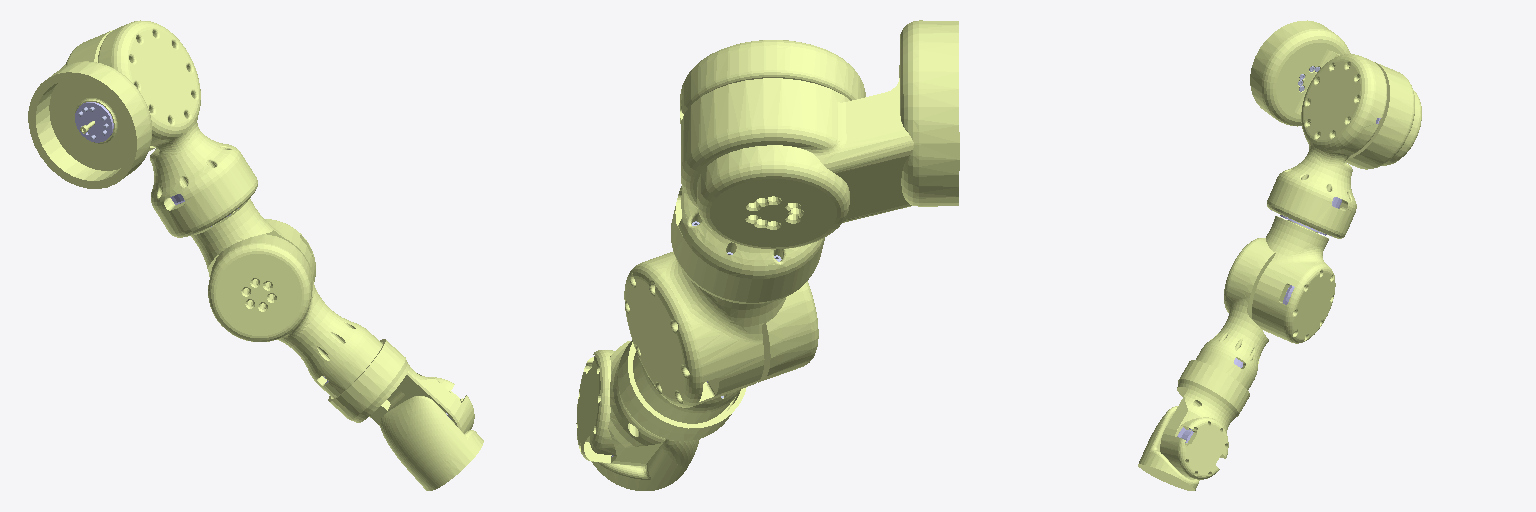
--- Facts derived from the render (not from the file) ---
The picture shows the robot from 3 angles, left to right: view 1: azimuth 30°, elevation 25°; view 2: azimuth 150°, elevation 25°; view 3: azimuth 270°, elevation 25°; orthographic projection.
Robot: urdf brat stang 7 — 34 links, 33 joints (6 revolute, 1 continuous, 26 fixed); root link base_fixture_link; default pose: all joints at 0.
Links seen in each view (by area): view 1: left_shoulder_roll, left_elbow, left_shoulder_pitch, left_hand, left_wrist, left_shoulder_yaw, left_shoulder_pitch_rs04_flange; view 2: left_shoulder_pitch, left_shoulder_yaw, left_shoulder_roll, left_wrist, left_elbow, left_hand; view 3: left_shoulder_roll, left_shoulder_pitch, left_shoulder_yaw, left_wrist, left_elbow, left_hand.
Boxes of the visible links, box(x1,y1,x2,y2) form: left_shoulder_roll: box(98, 20, 257, 237); left_elbow: box(208, 234, 382, 398); left_shoulder_pitch: box(28, 30, 154, 188); left_hand: box(380, 396, 483, 490); left_wrist: box(328, 339, 474, 433); left_shoulder_yaw: box(191, 199, 315, 281); left_shoulder_pitch_rs04_flange: box(75, 102, 113, 142); left_shoulder_pitch: box(681, 20, 959, 249); left_shoulder_yaw: box(624, 252, 785, 407); left_shoulder_roll: box(671, 40, 865, 303); left_wrist: box(576, 340, 746, 466); left_elbow: box(633, 281, 818, 423); left_hand: box(592, 439, 699, 490); left_shoulder_roll: box(1267, 54, 1386, 238); left_shoulder_pitch: box(1250, 20, 1421, 169); left_shoulder_yaw: box(1252, 216, 1335, 343); left_wrist: box(1160, 360, 1249, 479); left_elbow: box(1196, 238, 1275, 389); left_hand: box(1138, 406, 1199, 490).
Size in the robot's own frame: 0.47 by 0.3979 by 0.5496 metres.
Meshes: 34 distinct files referenced, 32 mesh visuals loaded (32 binary STL); not drawn: 2 (reference not matched to a file when rendering).

The robot description file, URDF, robot "urdf brat stang 7":
<?xml version="1.0" encoding="utf-8"?>
<!-- This URDF was automatically created by SolidWorks to URDF Exporter! Originally created by Stephen Brawner ([email redacted]) 
     Commit Version: 1.6.0-4-g7f85cfe  Build Version: 1.6.7995.38578
     For more information, please see http://wiki.ros.org/sw_urdf_exporter -->
<robot
  name="urdf brat stang 7">
  <link
    name="base_fixture_link">
    <inertial>
      <origin
        xyz="-0.30933 -0.17963 -0.83636"
        rpy="0 0 0" />
      <mass
        value="400" />
      <inertia
        ixx="1.5338"
        ixy="-0.024766"
        ixz="-0.16927"
        iyy="1.5621"
        iyz="-0.098299"
        izz="0.18464" />
    </inertial>
    <visual>
      <origin
        xyz="0 0 0"
        rpy="0 0 0" />
      <geometry>
        <mesh
          filename="package://urdf brat stang 7/meshes/base_fixture_link.STL" />
      </geometry>
      <material
        name="">
        <color
          rgba="0.82353 0.82353 1 1" />
      </material>
    </visual>
    <collision>
      <origin
        xyz="0 0 0"
        rpy="0 0 0" />
      <geometry>
        <mesh
          filename="package://urdf brat stang 7/meshes/base_fixture_link.STL" />
      </geometry>
    </collision>
  </link>
  <link
    name="left_shoulder_pitch_rs04_actuator">
    <inertial>
      <origin
        xyz="-0.0212144936357581 -0.0123197061496141 -1.4773737788687E-12"
        rpy="0 0 0" />
      <mass
        value="0.517423577893353" />
      <inertia
        ixx="0.000791281929906339"
        ixy="0.000146596403770864"
        ixz="1.04334286421383E-06"
        iyy="0.000623975041966309"
        iyz="-1.79663299480508E-06"
        izz="0.000544725741611065" />
    </inertial>
    <visual>
      <origin
        xyz="0 0 0"
        rpy="0 0 0" />
      <geometry>
        <mesh
          filename="package://urdf brat stang 7/meshes/left_shoulder_pitch_rs04_actuator.STL" />
      </geometry>
      <material
        name="">
        <color
          rgba="0.823529411764706 0.823529411764706 1 1" />
      </material>
    </visual>
    <collision>
      <origin
        xyz="0 0 0"
        rpy="0 0 0" />
      <geometry>
        <mesh
          filename="package://urdf brat stang 7/meshes/left_shoulder_pitch_rs04_actuator.STL" />
      </geometry>
    </collision>
  </link>
  <joint
    name="left_shoulder_pitch_rs04_actuator_fixture_link"
    type="fixed">
    <origin
      xyz="0 0 0"
      rpy="0 0 0" />
    <parent
      link="base_fixture_link" />
    <child
      link="left_shoulder_pitch_rs04_actuator" />
    <axis
      xyz="0 0 0" />
  </joint>
  <link
    name="left_shoulder_pitch_rs04_flange">
    <inertial>
      <origin
        xyz="-0.00160023400776765 -0.00100669949731991 7.29307138803703E-05"
        rpy="0 0 0" />
      <mass
        value="0.00758352122244494" />
      <inertia
        ixx="2.06768924459384E-06"
        ixy="5.07332578299122E-07"
        ixz="-2.28963593554678E-21"
        iyy="1.48868298903532E-06"
        iyz="-1.7205356741103E-22"
        izz="1.19406420659582E-06" />
    </inertial>
    <visual>
      <origin
        xyz="0 0 0"
        rpy="0 0 0" />
      <geometry>
        <mesh
          filename="package://urdf brat stang 7/meshes/left_shoulder_pitch_rs04_flange.STL" />
      </geometry>
      <material
        name="">
        <color
          rgba="0.823529411764706 0.823529411764706 1 1" />
      </material>
    </visual>
    <collision>
      <origin
        xyz="0 0 0"
        rpy="0 0 0" />
      <geometry>
        <mesh
          filename="package://urdf brat stang 7/meshes/left_shoulder_pitch_rs04_flange.STL" />
      </geometry>
    </collision>
  </link>
  <joint
    name="left_shoulder_pitch_rs04_flange_joint"
    type="revolute">
    <origin
      xyz="0 0 0"
      rpy="0 0 0" />
    <parent
      link="left_shoulder_pitch_rs04_actuator" />
    <child
      link="left_shoulder_pitch_rs04_flange" />
    <axis
      xyz="0.864760392474123 0.502184690734396 0" />
    <limit
      lower="-3.14"
      upper="3.14"
      effort="120"
      velocity="3" />
    <safety_controller
      soft_upper_limit="3.14"
      soft_lower_limit="-3.14"
      k_velocity="0" />
  </joint>
  <link
    name="m5x22_screws_left_shoulder_pitch">
    <inertial>
      <origin
        xyz="0.00721932653725377 0.000299723766531201 0.00365316139893568"
        rpy="0 0 0" />
      <mass
        value="0.00474644340626585" />
      <inertia
        ixx="1.03394680133485E-07"
        ixy="-1.32206926832093E-07"
        ixz="-2.76565465658249E-13"
        iyy="2.54278723556555E-07"
        iyz="2.77265718511042E-13"
        izz="3.31054378599859E-07" />
    </inertial>
    <visual>
      <origin
        xyz="0 0 0"
        rpy="0 0 0" />
      <geometry>
        <mesh
          filename="package://urdf brat stang 7/meshes/m5x22_screws_left_shoulder_pitch.STL" />
      </geometry>
      <material
        name="">
        <color
          rgba="0.792156862745098 0.819607843137255 0.933333333333333 1" />
      </material>
    </visual>
    <collision>
      <origin
        xyz="0 0 0"
        rpy="0 0 0" />
      <geometry>
        <mesh
          filename="package://urdf brat stang 7/meshes/m5x22_screws_left_shoulder_pitch.STL" />
      </geometry>
    </collision>
  </link>
  <joint
    name="m5x22_screws_left_shoulder_pitch_fixture_joint"
    type="fixed">
    <origin
      xyz="0 0 0"
      rpy="0 0 0" />
    <parent
      link="left_shoulder_pitch_rs04_flange" />
    <child
      link="m5x22_screws_left_shoulder_pitch" />
    <axis
      xyz="0 0 0" />
  </joint>
  <link
    name="left_shoulder_pitch">
    <inertial>
      <origin
        xyz="0.0422379184792105 0.0631675726295917 -0.021162469711781"
        rpy="0 0 0" />
      <mass
        value="1.19772099744743" />
      <inertia
        ixx="0.00533841544478267"
        ixy="-0.00181737265176679"
        ixz="0.000735956231723286"
        iyy="0.00421467724838482"
        iyz="0.000482895979159517"
        izz="0.00612223849669078" />
    </inertial>
    <visual>
      <origin
        xyz="0 0 0"
        rpy="0 0 0" />
      <geometry>
        <mesh
          filename="package://urdf brat stang 7/meshes/left_shoulder_pitch.STL" />
      </geometry>
      <material
        name="">
        <color
          rgba="0.952941176470588 0.996078431372549 0.694117647058824 1" />
      </material>
    </visual>
    <collision>
      <origin
        xyz="0 0 0"
        rpy="0 0 0" />
      <geometry>
        <mesh
          filename="package://urdf brat stang 7/meshes/left_shoulder_pitch.STL" />
      </geometry>
    </collision>
  </link>
  <joint
    name="left_shoulder_pitch_fixture_joint"
    type="fixed">
    <origin
      xyz="0 0 0"
      rpy="0 0 0" />
    <parent
      link="m5x22_screws_left_shoulder_pitch" />
    <child
      link="left_shoulder_pitch" />
    <axis
      xyz="0 0 0" />
  </joint>
  <link
    name="m5x22_screws_left_shoulder_roll">
    <inertial>
      <origin
        xyz="5.12752764351143E-05 -0.0128935045048073 5.12072378634487E-05"
        rpy="0 0 0" />
      <mass
        value="0.00610257053905764" />
      <inertia
        ixx="4.25641380807002E-07"
        ixy="1.38655679975827E-13"
        ixz="-4.65295401727222E-13"
        iyy="3.42246799589694E-08"
        iyz="-2.63052839856934E-13"
        izz="4.25641102603519E-07" />
    </inertial>
    <visual>
      <origin
        xyz="0 0 0"
        rpy="0 0 0" />
      <geometry>
        <mesh
          filename="package://urdf brat stang 7/meshes/m5x22_screws_left_shoulder_roll.STL" />
      </geometry>
      <material
        name="">
        <color
          rgba="0.792156862745098 0.819607843137255 0.933333333333333 1" />
      </material>
    </visual>
    <collision>
      <origin
        xyz="0 0 0"
        rpy="0 0 0" />
      <geometry>
        <mesh
          filename="package://urdf brat stang 7/meshes/m5x22_screws_left_shoulder_roll.STL" />
      </geometry>
    </collision>
  </link>
  <joint
    name="m5x22_screws_left_shoulder_roll_fixture_joint"
    type="fixed">
    <origin
      xyz="0.0803272260170873 0.0942116090989131 -0.0260749219194687"
      rpy="0.564448515429829 0 -2.61546937197944" />
    <parent
      link="left_shoulder_pitch" />
    <child
      link="m5x22_screws_left_shoulder_roll" />
    <axis
      xyz="0 0 0" />
  </joint>
  <link
    name="left_shoulder_roll_rs04_flange">
    <inertial>
      <origin
        xyz="-4.16333634234434E-14 -0.00211063193642413 6.38313846224037E-11"
        rpy="0 0 0" />
      <mass
        value="0.00758352122244508" />
      <inertia
        ixx="1.19406420659584E-06"
        ixy="-1.12430388858208E-20"
        ixz="1.48230765769503E-21"
        iyy="2.36230802703339E-06"
        iyz="-1.48200182586151E-15"
        izz="1.19406420659585E-06" />
    </inertial>
    <visual>
      <origin
        xyz="0 0 0"
        rpy="0 0 0" />
      <geometry>
        <mesh
          filename="package://urdf brat stang 7/meshes/left_shoulder_roll_rs04_flange.STL" />
      </geometry>
      <material
        name="">
        <color
          rgba="0.823529411764706 0.823529411764706 1 1" />
      </material>
    </visual>
    <collision>
      <origin
        xyz="0 0 0"
        rpy="0 0 0" />
      <geometry>
        <mesh
          filename="package://urdf brat stang 7/meshes/left_shoulder_roll_rs04_flange.STL" />
      </geometry>
    </collision>
  </link>
  <joint
    name="left_shoulder_roll_rs04_flange_joint"
    type="fixed">
    <origin
      xyz="0 0 0"
      rpy="0 0 0" />
    <parent
      link="m5x22_screws_left_shoulder_roll" />
    <child
      link="left_shoulder_roll_rs04_flange" />
    <axis
      xyz="0 0 0" />
  </joint>
  <link
    name="left_shoulder_roll_rs04_actuator">
    <inertial>
      <origin
        xyz="7.54312758008968E-05 0.0205322216645349 2.70558418999922E-05"
        rpy="0 0 0" />
      <mass
        value="0.517423577893356" />
      <inertia
        ixx="0.000542006962748033"
        ixy="-4.59109475697134E-15"
        ixz="-3.59408880621049E-06"
        iyy="0.000876413569064535"
        iyz="-4.24937943990442E-13"
        izz="0.000541562181671229" />
    </inertial>
    <visual>
      <origin
        xyz="0 0 0"
        rpy="0 0 0" />
      <geometry>
        <mesh
          filename="package://urdf brat stang 7/meshes/left_shoulder_roll_rs04_actuator.STL" />
      </geometry>
      <material
        name="">
        <color
          rgba="0.823529411764706 0.823529411764706 1 1" />
      </material>
    </visual>
    <collision>
      <origin
        xyz="0 0 0"
        rpy="0 0 0" />
      <geometry>
        <mesh
          filename="package://urdf brat stang 7/meshes/left_shoulder_roll_rs04_actuator.STL" />
      </geometry>
    </collision>
  </link>
  <joint
    name="left_shoulder_roll_rs04_actuator_fixture_link"
    type="revolute">
    <origin
      xyz="0 0 0"
      rpy="0 0 0" />
    <parent
      link="left_shoulder_roll_rs04_flange" />
    <child
      link="left_shoulder_roll_rs04_actuator" />
    <axis
      xyz="0 -1 0" />
    <limit
      lower="-3.5"
      upper="0.6"
      effort="120"
      velocity="3" />
    <safety_controller
      soft_upper_limit="3.14"
      soft_lower_limit="-3.14"
      k_velocity="0" />
  </joint>
  <link
    name="m4x25_left_shoulder_screws_roll">
    <inertial>
      <origin
        xyz="5.45041063610974E-05 0.0496289837028789 5.40653513856348E-05"
        rpy="0 0 0" />
      <mass
        value="0.00451430348886334" />
      <inertia
        ixx="3.68173387240364E-07"
        ixy="-6.77491733962292E-15"
        ixz="6.50698948799655E-17"
        iyy="1.54230097659285E-08"
        iyz="-3.94880986289279E-17"
        izz="3.68173386339827E-07" />
    </inertial>
    <visual>
      <origin
        xyz="0 0 0"
        rpy="0 0 0" />
      <geometry>
        <mesh
          filename="package://urdf brat stang 7/meshes/m4x25_left_shoulder_screws_roll.STL" />
      </geometry>
      <material
        name="">
        <color
          rgba="0.792156862745098 0.819607843137255 0.933333333333333 1" />
      </material>
    </visual>
    <collision>
      <origin
        xyz="0 0 0"
        rpy="0 0 0" />
      <geometry>
        <mesh
          filename="package://urdf brat stang 7/meshes/m4x25_left_shoulder_screws_roll.STL" />
      </geometry>
    </collision>
  </link>
  <joint
    name="m4x25_left_shoulder_screws_roll_fixture_joint"
    type="fixed">
    <origin
      xyz="0 0 0"
      rpy="0 0 0" />
    <parent
      link="left_shoulder_roll_rs04_actuator" />
    <child
      link="m4x25_left_shoulder_screws_roll" />
    <axis
      xyz="0 0 0" />
  </joint>
  <link
    name="left_shoulder_roll">
    <inertial>
      <origin
        xyz="-0.00752228686656664 0.0497547008472168 -0.055681167948436"
        rpy="0 0 0" />
      <mass
        value="0.997620688400226" />
      <inertia
        ixx="0.00534467265132067"
        ixy="-8.46143392882667E-05"
        ixz="-0.000430210471278774"
        iyy="0.00591903784346482"
        iyz="-0.000640722357597432"
        izz="0.00178281861079861" />
    </inertial>
    <visual>
      <origin
        xyz="0 0 0"
        rpy="0 0 0" />
      <geometry>
        <mesh
          filename="package://urdf brat stang 7/meshes/left_shoulder_roll.STL" />
      </geometry>
      <material
        name="">
        <color
          rgba="0.952941176470588 0.996078431372549 0.694117647058824 1" />
      </material>
    </visual>
    <collision>
      <origin
        xyz="0 0 0"
        rpy="0 0 0" />
      <geometry>
        <mesh
          filename="package://urdf brat stang 7/meshes/left_shoulder_roll.STL" />
      </geometry>
    </collision>
  </link>
  <joint
    name="left_shoulde_roll_fixture_joint"
    type="fixed">
    <origin
      xyz="0 0 0"
      rpy="0 0 0" />
    <parent
      link="m4x25_left_shoulder_screws_roll" />
    <child
      link="left_shoulder_roll" />
    <axis
      xyz="0 0 0" />
  </joint>
  <link
    name="m4x16_left_shoulder_yaw_screws">
    <inertial>
      <origin
        xyz="2.94195667827069E-10 6.28038065997316E-10 0.0451525729602269"
        rpy="0 0 0" />
      <mass
        value="0.00270184474693412" />
      <inertia
        ixx="1.0355785748527E-07"
        ixy="1.55850036199955E-16"
        ixz="-1.87732105419708E-15"
        iyy="1.03557857737459E-07"
        iyz="-3.9263557482072E-15"
        izz="1.05098007898703E-08" />
    </inertial>
    <visual>
      <origin
        xyz="0 0 0"
        rpy="0 0 0" />
      <geometry>
        <mesh
          filename="package://urdf brat stang 7/meshes/m4x16_left_shoulder_yaw_screws.STL" />
      </geometry>
      <material
        name="">
        <color
          rgba="0.792156862745098 0.819607843137255 0.933333333333333 1" />
      </material>
    </visual>
    <collision>
      <origin
        xyz="0 0 0"
        rpy="0 0 0" />
      <geometry>
        <mesh
          filename="package://urdf brat stang 7/meshes/m4x16_left_shoulder_yaw_screws.STL" />
      </geometry>
    </collision>
  </link>
  <joint
    name="m4x16_left_shoulder_yaw_screws_fixture_joint"
    type="fixed">
    <origin
      xyz="-0.0219716026665047 0.037700000000231 -0.173578614834026"
      rpy="0.0571232457871902 0.112571265320765 0.47087557604578" />
    <parent
      link="left_shoulder_roll" />
    <child
      link="m4x16_left_shoulder_yaw_screws" />
    <axis
      xyz="0 0 0" />
  </joint>
  <link
    name="left_shoulder_yaw_rs03_actuator">
    <inertial>
      <origin
        xyz="-0.000137350498326194 -0.000269996793656357 0.025084165158858"
        rpy="0 0 0" />
      <mass
        value="0.356550969588107" />
      <inertia
        ixx="0.000274320425081703"
        ixy="-2.07349930512738E-06"
        ixz="-2.5625369963248E-07"
        iyy="0.000271291938182678"
        iyz="-5.1492485379041E-07"
        izz="0.000381662133736491" />
    </inertial>
    <visual>
      <origin
        xyz="0 0 0"
        rpy="0 0 0" />
      <geometry>
        <mesh
          filename="package://urdf brat stang 7/meshes/left_shoulder_yaw_rs03_actuator.STL" />
      </geometry>
      <material
        name="">
        <color
          rgba="0.823529411764706 0.823529411764706 1 1" />
      </material>
    </visual>
    <collision>
      <origin
        xyz="0 0 0"
        rpy="0 0 0" />
      <geometry>
        <mesh
          filename="package://urdf brat stang 7/meshes/left_shoulder_yaw_rs03_actuator.STL" />
      </geometry>
    </collision>
  </link>
  <joint
    name="left_shoulder_yaw_rs03_actuator_fixture_link"
    type="fixed">
    <origin
      xyz="0 0 0"
      rpy="0 0 0" />
    <parent
      link="m4x16_left_shoulder_yaw_screws" />
    <child
      link="left_shoulder_yaw_rs03_actuator" />
    <axis
      xyz="0 0 0" />
  </joint>
  <link
    name="left_shoulder_yaw_rs03_flange">
    <inertial>
      <origin
        xyz="-1.01978425703919E-10 -1.98439042975451E-10 -0.00125625968589538"
        rpy="0 0 0" />
      <mass
        value="0.00407555097398888" />
      <inertia
        ixx="5.67676746163448E-07"
        ixy="-2.84550130718242E-22"
        ixz="3.78701346742632E-16"
        iyy="5.6767674616345E-07"
        iyz="7.48770296169664E-16"
        izz="1.13114082374848E-06" />
    </inertial>
    <visual>
      <origin
        xyz="0 0 0"
        rpy="0 0 0" />
      <geometry>
        <mesh
          filename="package://urdf brat stang 7/meshes/left_shoulder_yaw_rs03_flange.STL" />
      </geometry>
      <material
        name="">
        <color
          rgba="0.823529411764706 0.823529411764706 1 1" />
      </material>
    </visual>
    <collision>
      <origin
        xyz="0 0 0"
        rpy="0 0 0" />
      <geometry>
        <mesh
          filename="package://urdf brat stang 7/meshes/left_shoulder_yaw_rs03_flange.STL" />
      </geometry>
    </collision>
  </link>
  <joint
    name="left_shoulder_yaw_rs03_flange_joint"
    type="revolute">
    <origin
      xyz="0 0 0"
      rpy="0 0 0" />
    <parent
      link="left_shoulder_yaw_rs03_actuator" />
    <child
      link="left_shoulder_yaw_rs03_flange" />
    <axis
      xyz="0 0 1" />
    <limit
      lower="-3.14"
      upper="3.14"
      effort="60"
      velocity="1.6" />
    <safety_controller
      soft_upper_limit="3.14"
      soft_lower_limit="-3.14"
      k_velocity="0" />
  </joint>
  <link
    name="left_shoulder_yaw_shaft">
    <inertial>
      <origin
        xyz="-1.12223230708253E-10 -2.13622897149435E-10 -0.0119851125677803"
        rpy="0 0 0" />
      <mass
        value="0.000903649674373974" />
      <inertia
        ixx="4.41715688076217E-08"
        ixy="-3.92910790962688E-24"
        ixz="-2.84740481585426E-17"
        iyy="4.41715688076217E-08"
        iyz="-5.6299203047211E-17"
        izz="1.80539813295945E-09" />
    </inertial>
    <visual>
      <origin
        xyz="0 0 0"
        rpy="0 0 0" />
      <geometry>
        <mesh
          filename="package://urdf brat stang 7/meshes/left_shoulder_yaw_shaft.STL" />
      </geometry>
      <material
        name="">
        <color
          rgba="0.823529411764706 0.823529411764706 1 1" />
      </material>
    </visual>
    <collision>
      <origin
        xyz="0 0 0"
        rpy="0 0 0" />
      <geometry>
        <mesh
          filename="package://urdf brat stang 7/meshes/left_shoulder_yaw_shaft.STL" />
      </geometry>
    </collision>
  </link>
  <joint
    name="left_shoulder_yaw_shaft_fixture_joint"
    type="continuous">
    <origin
      xyz="0 0 0"
      rpy="0 0 0" />
    <parent
      link="left_shoulder_yaw_rs03_flange" />
    <child
      link="left_shoulder_yaw_shaft" />
    <axis
      xyz="0 0 1" />
    <limit
      lower="0"
      upper="0"
      effort="0"
      velocity="0" />
  </joint>
  <link
    name="left_shoulder_yaw_flange">
    <inertial>
      <origin
        xyz="-1.06492481499743E-10 -2.03767225315232E-10 -0.00898037826805287"
        rpy="0 0 0" />
      <mass
        value="0.0353531461099521" />
      <inertia
        ixx="9.85459914704043E-06"
        ixy="-7.54070449341709E-08"
        ixz="6.41250564941296E-15"
        iyy="9.59337705819639E-06"
        iyz="1.16833579520226E-14"
        izz="1.87117812635895E-05" />
    </inertial>
    <visual>
      <origin
        xyz="0 0 0"
        rpy="0 0 0" />
      <geometry>
        <mesh
          filename="package://urdf brat stang 7/meshes/left_shoulder_yaw_flange.STL" />
      </geometry>
      <material
        name="">
        <color
          rgba="0.952941176470588 0.996078431372549 0.694117647058824 1" />
      </material>
    </visual>
    <collision>
      <origin
        xyz="0 0 0"
        rpy="0 0 0" />
      <geometry>
        <mesh
          filename="package://urdf brat stang 7/meshes/left_shoulder_yaw_flange.STL" />
      </geometry>
    </collision>
  </link>
  <joint
    name="left_shoulder_yaw_flange_fixture_joint"
    type="fixed">
    <origin
      xyz="0 0 0"
      rpy="0 0 0" />
    <parent
      link="left_shoulder_yaw_shaft" />
    <child
      link="left_shoulder_yaw_flange" />
    <axis
      xyz="0 0 0" />
  </joint>
  <link
    name="1220_m4x16_left_shoulder_yaw_screws">
    <inertial>
      <origin
        xyz="-1.91902826962576E-10 1.89071425182874E-10 -0.0114719356178909"
        rpy="0 0 0" />
      <mass
        value="0.00141036418698186" />
      <inertia
        ixx="3.71610598568626E-08"
        ixy="-3.45234168406663E-21"
        ixz="-2.18969719919941E-17"
        iyy="3.71610598568608E-08"
        iyz="-4.32794460181838E-17"
        izz="4.58636225471012E-09" />
    </inertial>
    <visual>
      <origin
        xyz="0 0 0"
        rpy="0 0 0" />
      <geometry>
        <mesh
          filename="package://urdf brat stang 7/meshes/1220_m4x16_left_shoulder_yaw_screws.STL" />
      </geometry>
      <material
        name="">
        <color
          rgba="0.792156862745098 0.819607843137255 0.933333333333333 1" />
      </material>
    </visual>
    <collision>
      <origin
        xyz="0 0 0"
        rpy="0 0 0" />
      <geometry>
        <mesh
          filename="package://urdf brat stang 7/meshes/1220_m4x16_left_shoulder_yaw_screws.STL" />
      </geometry>
    </collision>
  </link>
  <joint
    name="1220_m4x16_left_shoulder_yaw_screws_fixture_joint"
    type="fixed">
    <origin
      xyz="0 0 0"
      rpy="0 0 0" />
    <parent
      link="left_shoulder_yaw_flange" />
    <child
      link="1220_m4x16_left_shoulder_yaw_screws" />
    <axis
      xyz="0 0 0" />
  </joint>
  <link
    name="m4x25_left_shoulder_yaw_screws">
    <inertial>
      <origin
        xyz="-6.22595752730604E-10 -1.28815313971131E-09 -0.0144289836693576"
        rpy="0 0 0" />
      <mass
        value="0.00270858202481973" />
      <inertia
        ixx="2.20903769276245E-07"
        ixy="4.52767736097723E-13"
        ixz="-1.92256851928136E-15"
        iyy="2.20904293495989E-07"
        iyz="-4.01263024272767E-15"
        izz="9.25380471510248E-09" />
    </inertial>
    <visual>
      <origin
        xyz="0 0 0"
        rpy="0 0 0" />
      <geometry>
        <mesh
          filename="package://urdf brat stang 7/meshes/m4x25_left_shoulder_yaw_screws.STL" />
      </geometry>
      <material
        name="">
        <color
          rgba="0.792156862745098 0.819607843137255 0.933333333333333 1" />
      </material>
    </visual>
    <collision>
      <origin
        xyz="0 0 0"
        rpy="0 0 0" />
      <geometry>
        <mesh
          filename="package://urdf brat stang 7/meshes/m4x25_left_shoulder_yaw_screws.STL" />
      </geometry>
    </collision>
  </link>
  <joint
    name="m4x25_left_shoulder_yaw_screws_fixture_joint"
    type="fixed">
    <origin
      xyz="0 0 0"
      rpy="0 0 0" />
    <parent
      link="1220_m4x16_left_shoulder_yaw_screws" />
    <child
      link="m4x25_left_shoulder_yaw_screws" />
    <axis
      xyz="0 0 0" />
  </joint>
  <link
    name="left_shoulder_yaw">
    <inertial>
      <origin
        xyz="-0.02760855105879 1.01214308401154E-06 -0.0766319307621743"
        rpy="0 0 0" />
      <mass
        value="0.488068654983253" />
      <inertia
        ixx="0.00146908224189927"
        ixy="2.07765822094386E-07"
        ixz="-0.000271215897289947"
        iyy="0.00131630379047291"
        iyz="6.9108854864171E-08"
        izz="0.000811624952993794" />
    </inertial>
    <visual>
      <origin
        xyz="0 0 0"
        rpy="0 0 0" />
      <geometry>
        <mesh
          filename="package://urdf brat stang 7/meshes/left_shoulder_yaw.STL" />
      </geometry>
      <material
        name="">
        <color
          rgba="0.952941176470588 0.996078431372549 0.694117647058824 1" />
      </material>
    </visual>
    <collision>
      <origin
        xyz="0 0 0"
        rpy="0 0 0" />
      <geometry>
        <mesh
          filename="package://urdf brat stang 7/meshes/left_shoulder_yaw.STL" />
      </geometry>
    </collision>
  </link>
  <joint
    name="left_shoulder_yaw_fixture_joint"
    type="fixed">
    <origin
      xyz="0 0 0"
      rpy="0 0 0" />
    <parent
      link="m4x25_left_shoulder_yaw_screws" />
    <child
      link="left_shoulder_yaw" />
    <axis
      xyz="0 0 0" />
  </joint>
  <link
    name="m4x16_eft_elbow_screws">
    <inertial>
      <origin
        xyz="0.0203953563270431 0.0412900578652691 8.74640360137846E-10"
        rpy="0 0 0" />
      <mass
        value="0.00270184358647762" />
      <inertia
        ixx="8.53078781134226E-08"
        ixy="-3.69467569967935E-08"
        ixz="-1.79121241755783E-15"
        iyy="2.87597563232936E-08"
        iyz="-3.5463190250719E-15"
        izz="1.03557847634927E-07" />
    </inertial>
    <visual>
      <origin
        xyz="0 0 0"
        rpy="0 0 0" />
      <geometry>
        <mesh
          filename="package://urdf brat stang 7/meshes/m4x16_eft_elbow_screws.STL" />
      </geometry>
      <material
        name="">
        <color
          rgba="0.792156862745098 0.819607843137255 0.933333333333333 1" />
      </material>
    </visual>
    <collision>
      <origin
        xyz="0 0 0"
        rpy="0 0 0" />
      <geometry>
        <mesh
          filename="package://urdf brat stang 7/meshes/m4x16_eft_elbow_screws.STL" />
      </geometry>
    </collision>
  </link>
  <joint
    name="m4x16_eft_elbow_screws_fixture_joint"
    type="fixed">
    <origin
      xyz="0 0 -0.0987000004167595"
      rpy="0 0 2.02959481544726" />
    <parent
      link="left_shoulder_yaw" />
    <child
      link="m4x16_eft_elbow_screws" />
    <axis
      xyz="0 0 0" />
  </joint>
  <link
    name="left_elbow_rs03_actuator">
    <inertial>
      <origin
        xyz="0.0111097813753016 0.02248973203071 -0.000302908501975452"
        rpy="0 0 0" />
      <mass
        value="0.356550890896862" />
      <inertia
        ixx="0.000296217970937463"
        ixy="4.22025243237621E-05"
        ixz="-2.44834237646248E-07"
        iyy="0.000360818228642397"
        iyz="-5.20600213977642E-07"
        izz="0.000270239476177585" />
    </inertial>
    <visual>
      <origin
        xyz="0 0 0"
        rpy="0 0 0" />
      <geometry>
        <mesh
          filename="package://urdf brat stang 7/meshes/left_elbow_rs03_actuator.STL" />
      </geometry>
      <material
        name="">
        <color
          rgba="0.823529411764706 0.823529411764706 1 1" />
      </material>
    </visual>
    <collision>
      <origin
        xyz="0 0 0"
        rpy="0 0 0" />
      <geometry>
        <mesh
          filename="package://urdf brat stang 7/meshes/left_elbow_rs03_actuator.STL" />
      </geometry>
    </collision>
  </link>
  <joint
    name="left_elbow_rs03_actuator_ficture_link"
    type="fixed">
    <origin
      xyz="0 0 0"
      rpy="0 0 0" />
    <parent
      link="m4x16_eft_elbow_screws" />
    <child
      link="left_elbow_rs03_actuator" />
    <axis
      xyz="0 0 0" />
  </joint>
  <link
    name="left_elbow_rs03_flange">
    <inertial>
      <origin
        xyz="-0.000556362020586842 -0.00112634334796891 -1.78221659652422E-10"
        rpy="0 0 0" />
      <mass
        value="0.0040755509739889" />
      <inertia
        ixx="6.7819170147317E-07"
        ixy="2.23735674414772E-07"
        ixz="1.41560844531018E-16"
        iyy="1.02062586843876E-06"
        iyz="2.86592499207639E-16"
        izz="5.6767674616345E-07" />
    </inertial>
    <visual>
      <origin
        xyz="0 0 0"
        rpy="0 0 0" />
      <geometry>
        <mesh
          filename="package://urdf brat stang 7/meshes/left_elbow_rs03_flange.STL" />
      </geometry>
      <material
        name="">
        <color
          rgba="0.823529411764706 0.823529411764706 1 1" />
      </material>
    </visual>
    <collision>
      <origin
        xyz="0 0 0"
        rpy="0 0 0" />
      <geometry>
        <mesh
          filename="package://urdf brat stang 7/meshes/left_elbow_rs03_flange.STL" />
      </geometry>
    </collision>
  </link>
  <joint
    name="left_elbow_rs03_flange_joint"
    type="revolute">
    <origin
      xyz="0 0 0"
      rpy="0 0 0" />
    <parent
      link="left_elbow_rs03_actuator" />
    <child
      link="left_elbow_rs03_flange" />
    <axis
      xyz="0.442871169532449 0.896585259301624 0" />
    <limit
      lower="-1.3"
      upper="1.9"
      effort="60"
      velocity="1.6" />
    <safety_controller
      soft_upper_limit="3.14"
      soft_lower_limit="-3.14"
      k_velocity="0" />
  </joint>
  <link
    name="left_elbow_shaft">
    <inertial>
      <origin
        xyz="-0.426183551554712 0.00226691613099916 -0.176826619351449"
        rpy="0 0 0" />
      <mass
        value="15.7008025632262" />
      <inertia
        ixx="2.26789694520737"
        ixy="0.251800166452908"
        ixz="-1.79738202827734"
        iyy="4.40181075101217"
        iyz="0.369996125102797"
        izz="2.53081551195838" />
    </inertial>
    <visual>
      <origin
        xyz="0 0 0"
        rpy="0 0 0" />
      <geometry>
        <mesh
          filename="package://urdf brat stang 7/meshes/left_elbow_shaft.STL" />
      </geometry>
      <material
        name="">
        <color
          rgba="0.752941176470588 0.752941176470588 0.752941176470588 1" />
      </material>
    </visual>
    <collision>
      <origin
        xyz="0 0 0"
        rpy="0 0 0" />
      <geometry>
        <mesh
          filename="package://urdf brat stang 7/meshes/left_elbow_shaft.STL" />
      </geometry>
    </collision>
  </link>
  <joint
    name="left_elbow_shaft_fixture_joint"
    type="fixed">
    <origin
      xyz="0 0 0"
      rpy="0 0 0" />
    <parent
      link="left_elbow_rs03_flange" />
    <child
      link="left_elbow_shaft" />
    <axis
      xyz="0 0 0" />
  </joint>
  <link
    name="m4x25_left_elbow_screws">
    <inertial>
      <origin
        xyz="-0.00623517616945923 -0.0126230084228056 -1.5800547537026E-09"
        rpy="0 0 0" />
      <mass
        value="0.00270858033444495" />
      <inertia
        ixx="1.79392020983022E-07"
        ixy="-8.40403332919024E-08"
        ixz="-2.17678380369018E-15"
        iyy="5.07657695439309E-08"
        iyz="-4.71341285920786E-15"
        izz="2.20904014947488E-07" />
    </inertial>
    <visual>
      <origin
        xyz="0 0 0"
        rpy="0 0 0" />
      <geometry>
        <mesh
          filename="package://urdf brat stang 7/meshes/m4x25_left_elbow_screws.STL" />
      </geometry>
      <material
        name="">
        <color
          rgba="0.792156862745098 0.819607843137255 0.933333333333333 1" />
      </material>
    </visual>
    <collision>
      <origin
        xyz="0 0 0"
        rpy="0 0 0" />
      <geometry>
        <mesh
          filename="package://urdf brat stang 7/meshes/m4x25_left_elbow_screws.STL" />
      </geometry>
    </collision>
  </link>
  <joint
    name="m4x25_left_elbow_screws_fixture_joint"
    type="fixed">
    <origin
      xyz="0 0 0"
      rpy="0 0 0" />
    <parent
      link="left_elbow_shaft" />
    <child
      link="m4x25_left_elbow_screws" />
    <axis
      xyz="0 0 0" />
  </joint>
  <link
    name="left_elbow">
    <inertial>
      <origin
        xyz="-0.0011766162325757 -0.0226416909878782 -0.0323595640978438"
        rpy="0 0 0" />
      <mass
        value="0.779765456176632" />
      <inertia
        ixx="0.00250248689492046"
        ixy="0.00010702602467171"
        ixz="0.000573100224582793"
        iyy="0.0029164826362284"
        iyz="0.000125954647195335"
        izz="0.000972783881372284" />
    </inertial>
    <visual>
      <origin
        xyz="0 0 0"
        rpy="0 0 0" />
      <geometry>
        <mesh
          filename="package://urdf brat stang 7/meshes/left_elbow.STL" />
      </geometry>
      <material
        name="">
        <color
          rgba="0.952941176470588 0.996078431372549 0.694117647058824 1" />
      </material>
    </visual>
    <collision>
      <origin
        xyz="0 0 0"
        rpy="0 0 0" />
      <geometry>
        <mesh
          filename="package://urdf brat stang 7/meshes/left_elbow.STL" />
      </geometry>
    </collision>
  </link>
  <joint
    name="left_elbow_fixture_joint"
    type="fixed">
    <origin
      xyz="0 0 0"
      rpy="0 0 0" />
    <parent
      link="m4x25_left_elbow_screws" />
    <child
      link="left_elbow" />
    <axis
      xyz="0 0 0" />
  </joint>
  <link
    name="m3x20_left_wrist_screws">
    <inertial>
      <origin
        xyz="-0.00322617478917386 -0.0374854467235402 0.00322626231628043"
        rpy="0 0 0" />
      <mass
        value="0.00162137028637935" />
      <inertia
        ixx="8.36724015923341E-08"
        ixy="6.8399216009266E-16"
        ixz="-1.09755051476026E-14"
        iyy="3.32920091128032E-09"
        iyz="-6.80875305447723E-14"
        izz="8.3672411512252E-08" />
    </inertial>
    <visual>
      <origin
        xyz="0 0 0"
        rpy="0 0 0" />
      <geometry>
        <mesh
          filename="package://urdf brat stang 7/meshes/m3x20_left_wrist_screws.STL" />
      </geometry>
      <material
        name="">
        <color
          rgba="0.792156862745098 0.819607843137255 0.933333333333333 1" />
      </material>
    </visual>
    <collision>
      <origin
        xyz="0 0 0"
        rpy="0 0 0" />
      <geometry>
        <mesh
          filename="package://urdf brat stang 7/meshes/m3x20_left_wrist_screws.STL" />
      </geometry>
    </collision>
  </link>
  <joint
    name="m3x20_left_wrist_screws_fixture_joint"
    type="fixed">
    <origin
      xyz="0.0370688771049235 -0.0244446769789257 -0.15848929336033"
      rpy="-1.29963611177836 0 -2.02959481544726" />
    <parent
      link="left_elbow" />
    <child
      link="m3x20_left_wrist_screws" />
    <axis
      xyz="0 0 0" />
  </joint>
  <link
    name="left_wrist_actuator">
    <inertial>
      <origin
        xyz="-2.23280616218346E-10 -0.0230138333779122 9.95055797758937E-08"
        rpy="0 0 0" />
      <mass
        value="0.180583065420557" />
      <inertia
        ixx="8.80899821792289E-05"
        ixy="-2.23449366716405E-14"
        ixz="-1.17737579668348E-19"
        iyy="0.000127000739066183"
        iyz="3.29199492779585E-11"
        izz="8.80899821792569E-05" />
    </inertial>
    <visual>
      <origin
        xyz="0 0 0"
        rpy="0 0 0" />
      <geometry>
        <mesh
          filename="package://urdf brat stang 7/meshes/left_wrist_actuator.STL" />
      </geometry>
      <material
        name="">
        <color
          rgba="0.823529411764706 0.823529411764706 1 1" />
      </material>
    </visual>
    <collision>
      <origin
        xyz="0 0 0"
        rpy="0 0 0" />
      <geometry>
        <mesh
          filename="package://urdf brat stang 7/meshes/left_wrist_actuator.STL" />
      </geometry>
    </collision>
  </link>
  <joint
    name="left_wrist_actuator_fixture_link"
    type="fixed">
    <origin
      xyz="0 0 0"
      rpy="0 0 0" />
    <parent
      link="m3x20_left_wrist_screws" />
    <child
      link="left_wrist_actuator" />
    <axis
      xyz="0 0 0" />
  </joint>
  <link
    name="left_wrist_rs02_flange">
    <inertial>
      <origin
        xyz="-2.84328338651108E-10 -0.00198993490318111 1.17727700477133E-07"
        rpy="0 0 0" />
      <mass
        value="0.00245793392108135" />
      <inertia
        ixx="1.34950766910333E-07"
        ixy="-7.368168567894E-17"
        ixz="5.0416658335107E-22"
        iyy="2.63403217776789E-07"
        iyz="1.08675600798964E-13"
        izz="1.34950766910425E-07" />
    </inertial>
    <visual>
      <origin
        xyz="0 0 0"
        rpy="0 0 0" />
      <geometry>
        <mesh
          filename="package://urdf brat stang 7/meshes/left_wrist_rs02_flange.STL" />
      </geometry>
      <material
        name="">
        <color
          rgba="0.823529411764706 0.823529411764706 1 1" />
      </material>
    </visual>
    <collision>
      <origin
        xyz="0 0 0"
        rpy="0 0 0" />
      <geometry>
        <mesh
          filename="package://urdf brat stang 7/meshes/left_wrist_rs02_flange.STL" />
      </geometry>
    </collision>
  </link>
  <joint
    name="left_wrist_rs02_flange_joint"
    type="revolute">
    <origin
      xyz="0 0 0"
      rpy="0 0 0" />
    <parent
      link="left_wrist_actuator" />
    <child
      link="left_wrist_rs02_flange" />
    <axis
      xyz="0 1 0" />
    <limit
      lower="-3.14"
      upper="3.14"
      effort="17"
      velocity="0.8" />
    <safety_controller
      soft_upper_limit="3.14"
      soft_lower_limit="-3.14"
      k_velocity="0" />
  </joint>
  <link
    name="m4x20_left_wrist_screws">
    <inertial>
      <origin
        xyz="3.33874400348932E-08 0.0084026651053235 1.47909658743117E-07"
        rpy="0 0 0" />
      <mass
        value="0.00232797016313321" />
      <inertia
        ixx="1.29587507987178E-07"
        ixy="-3.32297411344836E-13"
        ixz="3.13118287866634E-13"
        iyy="8.48546817317182E-09"
        iyz="-3.12384289243143E-13"
        izz="1.29587220640328E-07" />
    </inertial>
    <visual>
      <origin
        xyz="0 0 0"
        rpy="0 0 0" />
      <geometry>
        <mesh
          filename="package://urdf brat stang 7/meshes/m4x20_left_wrist_screws.STL" />
      </geometry>
      <material
        name="">
        <color
          rgba="0.792156862745098 0.819607843137255 0.933333333333333 1" />
      </material>
    </visual>
    <collision>
      <origin
        xyz="0 0 0"
        rpy="0 0 0" />
      <geometry>
        <mesh
          filename="package://urdf brat stang 7/meshes/m4x20_left_wrist_screws.STL" />
      </geometry>
    </collision>
  </link>
  <joint
    name="m4x20_left_wrist_screws_fixture_joint"
    type="fixed">
    <origin
      xyz="0 0 0"
      rpy="0 0 0" />
    <parent
      link="left_wrist_rs02_flange" />
    <child
      link="m4x20_left_wrist_screws" />
    <axis
      xyz="0 0 0" />
  </joint>
  <link
    name="left_wrist_shaft">
    <inertial>
      <origin
        xyz="-2.89938628661446E-10 0.00798511248800171 1.26166955993767E-07"
        rpy="0 0 0" />
      <mass
        value="0.000903649674373975" />
      <inertia
        ixx="4.41715688076223E-08"
        ixy="2.43014598068629E-17"
        ixz="1.89217565121505E-23"
        iyy="1.80539813298977E-09"
        iyz="-3.58433727003308E-14"
        izz="4.4171568807592E-08" />
    </inertial>
    <visual>
      <origin
        xyz="0 0 0"
        rpy="0 0 0" />
      <geometry>
        <mesh
          filename="package://urdf brat stang 7/meshes/left_wrist_shaft.STL" />
      </geometry>
      <material
        name="">
        <color
          rgba="0.823529411764706 0.823529411764706 1 1" />
      </material>
    </visual>
    <collision>
      <origin
        xyz="0 0 0"
        rpy="0 0 0" />
      <geometry>
        <mesh
          filename="package://urdf brat stang 7/meshes/left_wrist_shaft.STL" />
      </geometry>
    </collision>
  </link>
  <joint
    name="left_wrist_shaft_fixture_joint"
    type="fixed">
    <origin
      xyz="0 0 0"
      rpy="0 0 0" />
    <parent
      link="m4x20_left_wrist_screws" />
    <child
      link="left_wrist_shaft" />
    <axis
      xyz="0 0 0" />
  </joint>
  <link
    name="left_wrist">
    <inertial>
      <origin
        xyz="-0.0126284318210228 0.0418086841269973 0.00594039253722034"
        rpy="0 0 0" />
      <mass
        value="0.388950905166577" />
      <inertia
        ixx="0.00083365923302771"
        ixy="0.000191177318903803"
        ixz="2.04616802815707E-06"
        iyy="0.000517833817855438"
        iyz="-8.95571703468385E-05"
        izz="0.000838969560061725" />
    </inertial>
    <visual>
      <origin
        xyz="0 0 0"
        rpy="0 0 0" />
      <geometry>
        <mesh
          filename="package://urdf brat stang 7/meshes/left_wrist.STL" />
      </geometry>
      <material
        name="">
        <color
          rgba="0.952941176470588 0.996078431372549 0.694117647058824 1" />
      </material>
    </visual>
    <collision>
      <origin
        xyz="0 0 0"
        rpy="0 0 0" />
      <geometry>
        <mesh
          filename="package://urdf brat stang 7/meshes/left_wrist.STL" />
      </geometry>
    </collision>
  </link>
  <joint
    name="left_wrist_fixture_joint"
    type="fixed">
    <origin
      xyz="0 0 0"
      rpy="0 0 0" />
    <parent
      link="left_wrist_shaft" />
    <child
      link="left_wrist" />
    <axis
      xyz="0 0 0" />
  </joint>
  <link
    name="m3x16_left_hand_screws">
    <inertial>
      <origin
        xyz="-0.0363345178674755 0.00271811986352866 0.00366466137443122"
        rpy="0 0 0" />
      <mass
        value="0.00139374174732651" />
      <inertia
        ixx="3.07153113593584E-09"
        ixy="2.99011246526283E-15"
        ixz="-2.30300347815179E-14"
        iyy="4.88927935104831E-08"
        iyz="1.38741075276256E-16"
        izz="4.88928835911799E-08" />
    </inertial>
    <visual>
      <origin
        xyz="0 0 0"
        rpy="0 0 0" />
      <geometry>
        <mesh
          filename="package://urdf brat stang 7/meshes/m3x16_left_hand_screws.STL" />
      </geometry>
      <material
        name="">
        <color
          rgba="0.792156862745098 0.819607843137255 0.933333333333333 1" />
      </material>
    </visual>
    <collision>
      <origin
        xyz="0 0 0"
        rpy="0 0 0" />
      <geometry>
        <mesh
          filename="package://urdf brat stang 7/meshes/m3x16_left_hand_screws.STL" />
      </geometry>
    </collision>
  </link>
  <joint
    name="m3x16_left_hand_screws_fixture_joint"
    type="fixed">
    <origin
      xyz="0 0.0944999999998815 0"
      rpy="0.644848119833412 0.444064009162365 0" />
    <parent
      link="left_wrist" />
    <child
      link="m3x16_left_hand_screws" />
    <axis
      xyz="0 0 0" />
  </joint>
  <link
    name="left_hand_rs02">
    <inertial>
      <origin
        xyz="-0.0230139140894014 9.58860999489275E-08 1.39587437941735E-07"
        rpy="0 0 0" />
      <mass
        value="0.180583065420555" />
      <inertia
        ixx="0.000127000739066206"
        ixy="9.69568717547113E-12"
        ixz="-7.30113439629707E-12"
        iyy="8.80899821792287E-05"
        iyz="-1.63250733667733E-18"
        izz="8.80899821792277E-05" />
    </inertial>
    <visual>
      <origin
        xyz="0 0 0"
        rpy="0 0 0" />
      <geometry>
        <mesh
          filename="package://urdf brat stang 7/meshes/left_hand_rs02.STL" />
      </geometry>
      <material
        name="">
        <color
          rgba="0.823529411764706 0.823529411764706 1 1" />
      </material>
    </visual>
    <collision>
      <origin
        xyz="0 0 0"
        rpy="0 0 0" />
      <geometry>
        <mesh
          filename="package://urdf brat stang 7/meshes/left_hand_rs02.STL" />
      </geometry>
    </collision>
  </link>
  <joint
    name="left_hand_rs02_fixture_link"
    type="fixed">
    <origin
      xyz="0 0 0"
      rpy="0 0 0" />
    <parent
      link="m3x16_left_hand_screws" />
    <child
      link="left_hand_rs02" />
    <axis
      xyz="0 0 0" />
  </joint>
  <link
    name="left_hand_rs02_flange">
    <inertial>
      <origin
        xyz="-0.00201014599383542 1.01119780993031E-07 1.35646284760149E-07"
        rpy="0 0 0" />
      <mass
        value="0.00245793392108132" />
      <inertia
        ixx="2.63403217776863E-07"
        ixy="3.20075427798838E-14"
        ixz="-2.4102603437892E-14"
        iyy="1.34950766910338E-07"
        iyz="-6.33410495096549E-21"
        izz="1.34950766910335E-07" />
    </inertial>
    <visual>
      <origin
        xyz="0 0 0"
        rpy="0 0 0" />
      <geometry>
        <mesh
          filename="package://urdf brat stang 7/meshes/left_hand_rs02_flange.STL" />
      </geometry>
      <material
        name="">
        <color
          rgba="0.823529411764706 0.823529411764706 1 1" />
      </material>
    </visual>
    <collision>
      <origin
        xyz="0 0 0"
        rpy="0 0 0" />
      <geometry>
        <mesh
          filename="package://urdf brat stang 7/meshes/left_hand_rs02_flange.STL" />
      </geometry>
    </collision>
  </link>
  <joint
    name="left_hand_rs02_flange_joint"
    type="revolute">
    <origin
      xyz="0 0 0"
      rpy="0 0 0" />
    <parent
      link="left_hand_rs02" />
    <child
      link="left_hand_rs02_flange" />
    <axis
      xyz="1 0 0" />
    <limit
      lower="-1.5"
      upper="1.7"
      effort="17"
      velocity="0.8" />
    <safety_controller
      soft_upper_limit="1.7"
      soft_lower_limit="-1.5"
      k_velocity="0" />
  </joint>
  <link
    name="left_hand">
    <inertial>
      <origin
        xyz="0.0119774204155371 0.0114766160008068 -0.011141606469449"
        rpy="0 0 0" />
      <mass
        value="0.285530357044819" />
      <inertia
        ixx="0.000354627603110874"
        ixy="1.61688394612827E-05"
        ixz="-1.6021202001183E-05"
        iyy="0.000247513429239453"
        iyz="3.0703979843658E-05"
        izz="0.000247329276786552" />
    </inertial>
    <visual>
      <origin
        xyz="0 0 0"
        rpy="0 0 0" />
      <geometry>
        <mesh
          filename="package://urdf brat stang 7/meshes/left_hand.STL" />
      </geometry>
      <material
        name="">
        <color
          rgba="0.952941176470588 0.996078431372549 0.694117647058824 1" />
      </material>
    </visual>
    <collision>
      <origin
        xyz="0 0 0"
        rpy="0 0 0" />
      <geometry>
        <mesh
          filename="package://urdf brat stang 7/meshes/left_hand.STL" />
      </geometry>
    </collision>
  </link>
  <joint
    name="left_hand_fixture_joint"
    type="fixed">
    <origin
      xyz="0 0 0"
      rpy="0 0 0" />
    <parent
      link="left_hand_rs02_flange" />
    <child
      link="left_hand" />
    <axis
      xyz="0 0 0" />
  </joint>
</robot>
